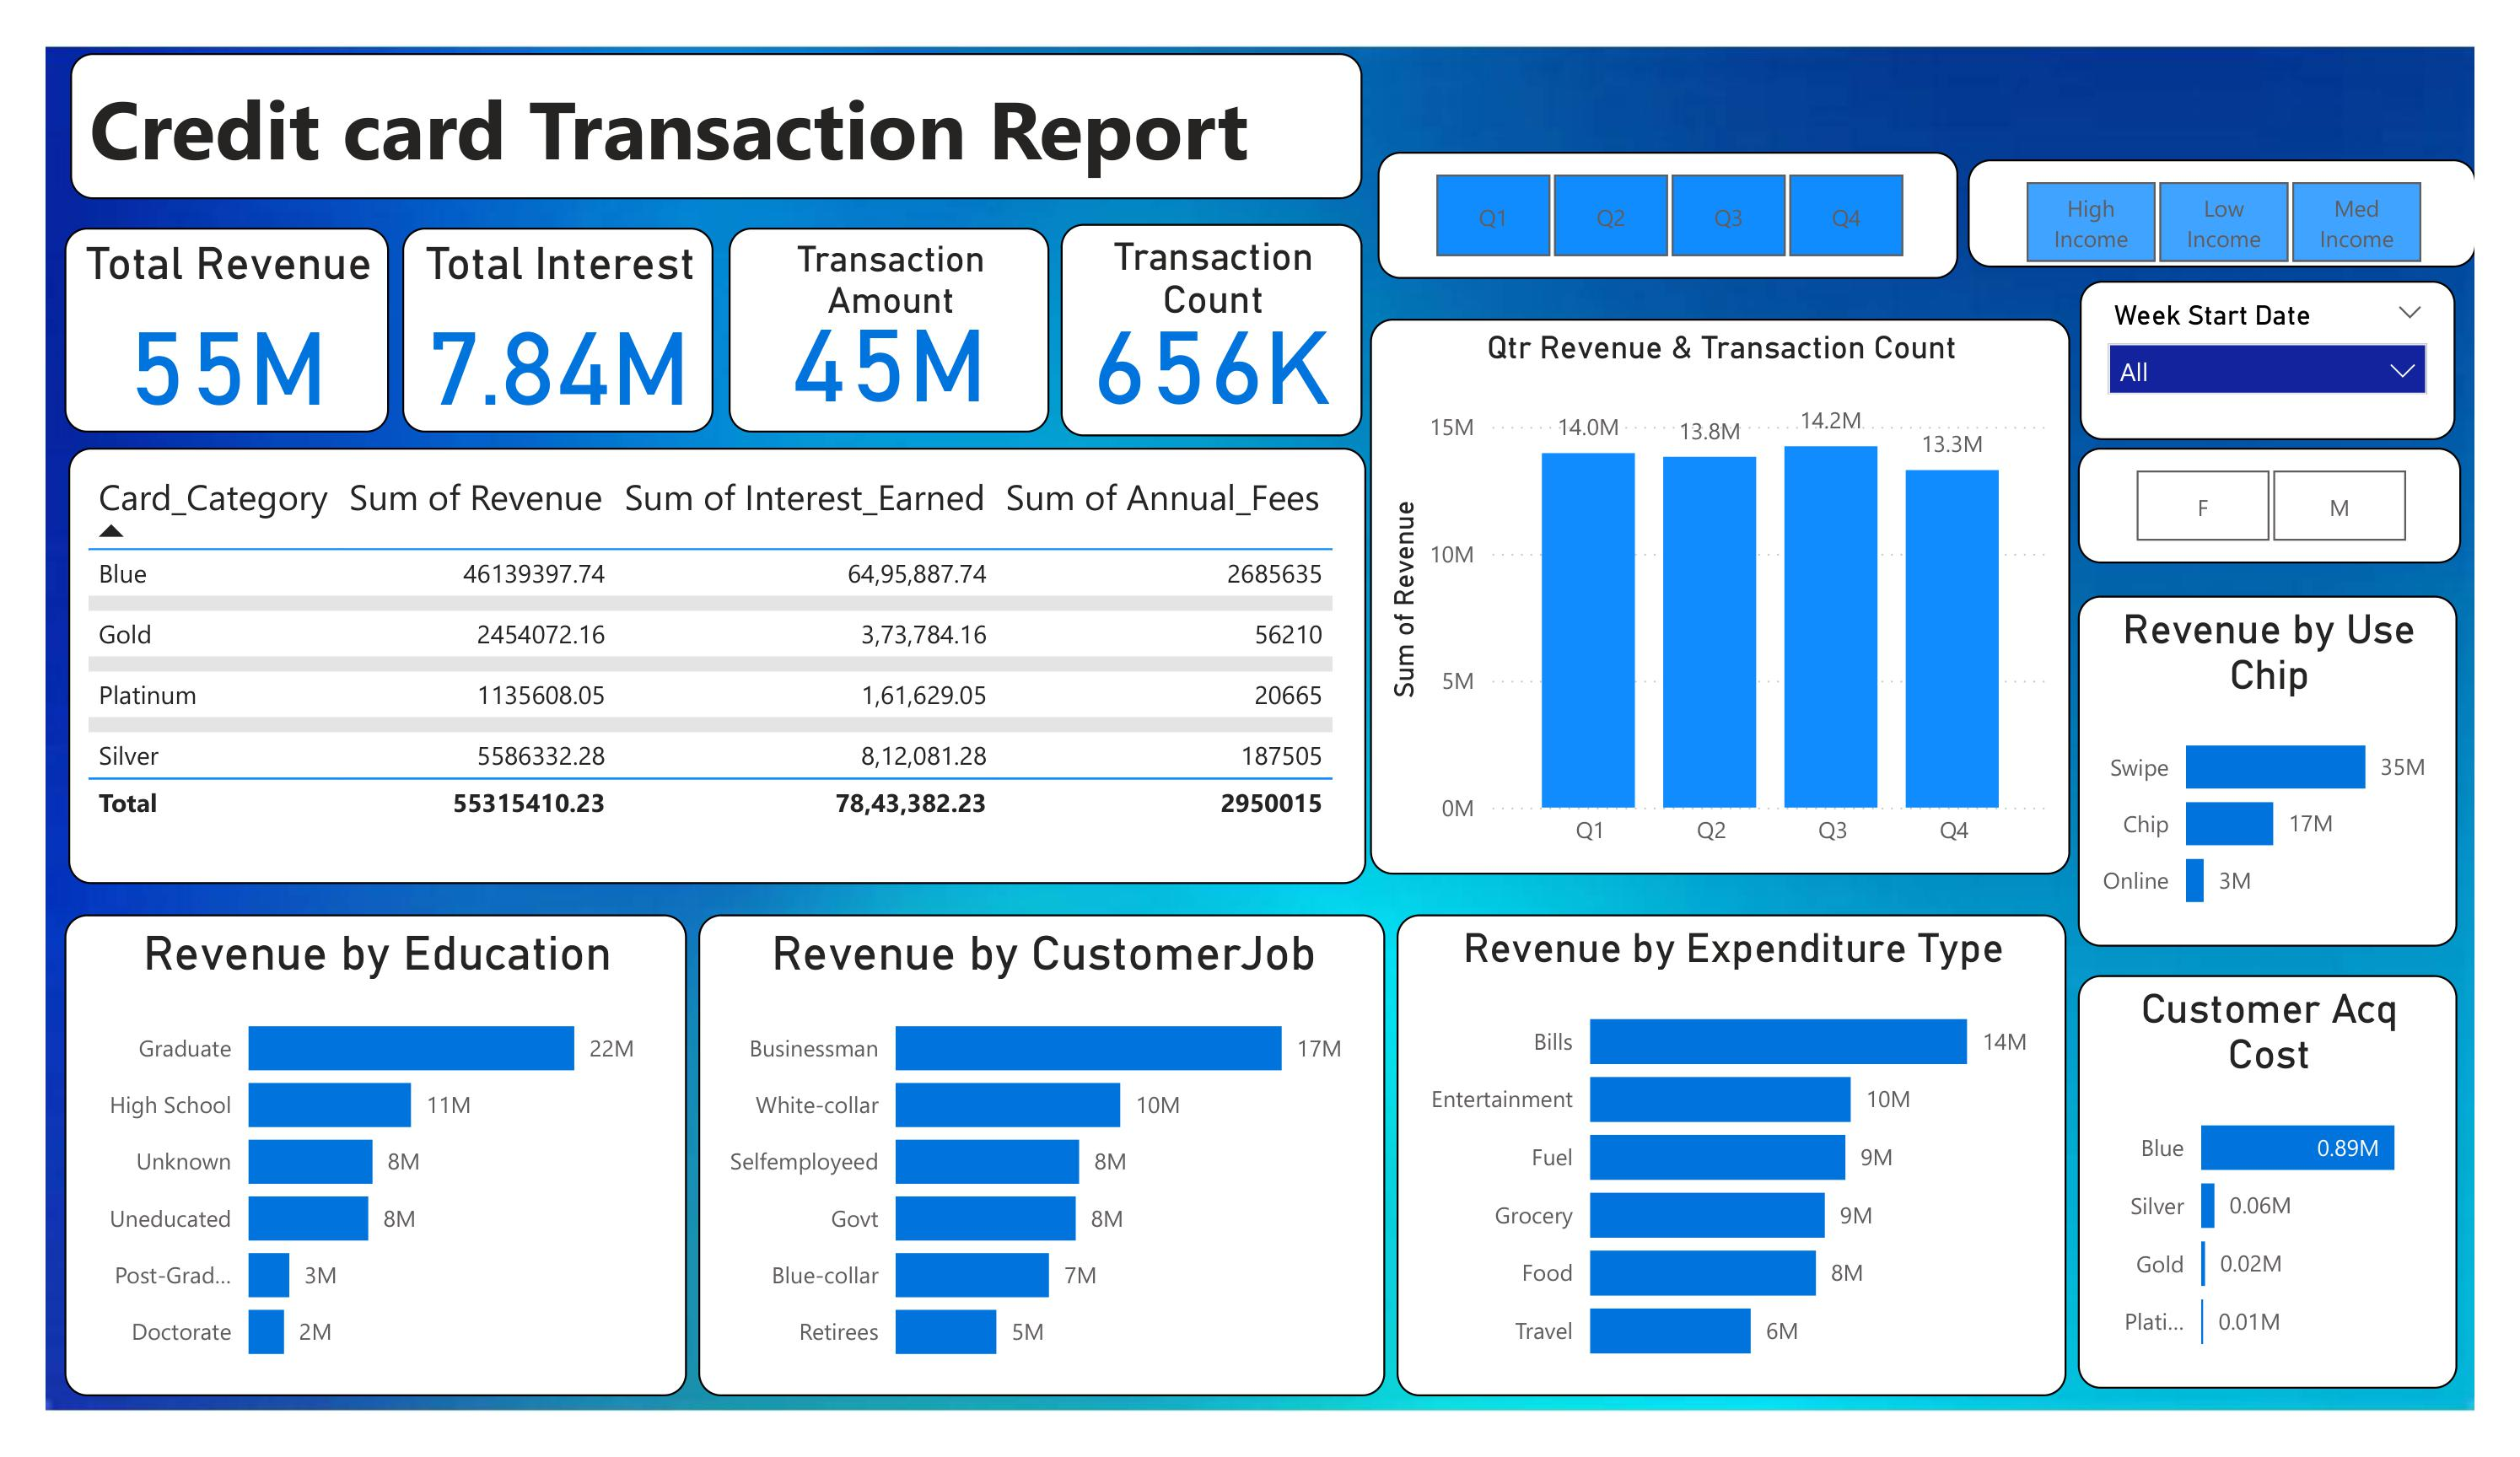

Layout of this report page (visuals, bound fields, positions):
{"tool":"powerbi","page":{"name":"Page 2","canvas":[1280,720],"ordinal":1},"visuals":[{"type":"textbox","box":[13.5,3.8,680.8,76.9],"z":0},{"type":"card","title":"Total Revenue","fields":{"Values":["Sum(Credit Card.Revenue)"]},"box":[9.6,96.2,171.2,107.7],"z":1000},{"type":"card","title":"Total Interest","fields":{"Values":["Sum(Credit Card.Interest_Earned)"]},"box":[188.5,96.2,163.5,107.7],"z":2000},{"type":"card","title":" Transaction  Amount","fields":{"Values":["Sum(Credit Card.Total_Trans_Amt)"]},"box":[359.6,96.2,169.2,107.7],"z":3000},{"type":"card","title":"Transaction  Count","fields":{"Values":["Sum(Credit Card.Total_Trans_Vol)"]},"box":[534.6,94.2,159.6,111.5],"z":4000},{"type":"tableEx","fields":{"Values":["Credit Card.Card_Category","Sum(Credit Card.Revenue)","Sum(Credit Card.Interest_Earned)","Sum(Credit Card.Annual_Fees)"]},"box":[11.5,211.5,684.6,230.8],"z":5000},{"type":"barChart","title":"Revenue by Education","fields":{"Y":["Sum(Credit Card.Revenue)"],"Category":["Customer.Education_Level"]},"box":[9.6,457.7,328.8,253.8],"z":6000},{"type":"barChart","title":"Revenue by CustomerJob","fields":{"Y":["Sum(Credit Card.Revenue)"],"Category":["Customer.Customer_Job"]},"box":[344.2,457.7,361.5,253.8],"z":7000},{"type":"barChart","title":"Revenue by Expenditure Type","fields":{"Y":["Sum(Credit Card.Revenue)"],"Category":["Credit Card.Exp Type"]},"box":[735,466.7,353.3,253.3],"z":8000},{"type":"barChart","title":" Customer Acq Cost","fields":{"Y":["Sum(Credit Card.Customer_Acq_Cost)"],"Category":["Credit Card.Card_Category"]},"box":[1071.2,490.4,200,217.3],"z":9000},{"type":"barChart","title":" Revenue by Use Chip","fields":{"Y":["Sum(Credit Card.Revenue)"],"Category":["Credit Card.Use Chip"]},"box":[1071.2,290.4,200,184.6],"z":10000},{"type":"columnChart","title":" Qtr Revenue & Transaction Count","fields":{"Y":["Sum(Credit Card.Revenue)"],"Category":["Credit Card.Qtr"]},"box":[698.1,144.2,369.2,292.3],"z":11000},{"type":"slicer","fields":{"Values":["Credit Card.Qtr"]},"box":[701.9,55.8,305.8,67.3],"z":12000},{"type":"slicer","fields":{"Values":["Credit Card.Week_Start_Date"]},"box":[1071.2,126.9,201.9,78.8],"z":13000},{"type":"slicer","fields":{"Values":["Customer.Gender"]},"box":[1071.2,211.5,201.9,61.5],"z":14000},{"type":"slicer","fields":{"Values":["Customer.Salary Group"]},"box":[1012.7,59.6,267.3,57.7],"z":15000}]}

Visuals, with their boxes in screenshot pixels (x1, y1, x2, y2), scaled from the page's 1280x720 canvas onto the 2520x1457 screenshot:
textbox: <bbox>27, 8, 1367, 164</bbox>
"Total Revenue" card: <bbox>19, 195, 356, 412</bbox>
"Total Interest" card: <bbox>371, 195, 693, 412</bbox>
" Transaction  Amount" card: <bbox>708, 195, 1041, 412</bbox>
"Transaction  Count" card: <bbox>1053, 191, 1367, 417</bbox>
tableEx - Credit Card.Card_Category x Sum(Credit Card.Revenue): <bbox>23, 428, 1370, 895</bbox>
"Revenue by Education" barChart: <bbox>19, 926, 666, 1440</bbox>
"Revenue by CustomerJob" barChart: <bbox>677, 926, 1389, 1440</bbox>
"Revenue by Expenditure Type" barChart: <bbox>1447, 944, 2143, 1456</bbox>
" Customer Acq Cost" barChart: <bbox>2109, 992, 2502, 1432</bbox>
" Revenue by Use Chip" barChart: <bbox>2109, 588, 2502, 961</bbox>
" Qtr Revenue & Transaction Count" columnChart: <bbox>1375, 292, 2101, 884</bbox>
slicer - Credit Card.Qtr: <bbox>1381, 113, 1984, 249</bbox>
slicer - Credit Card.Week_Start_Date: <bbox>2109, 257, 2507, 417</bbox>
slicer - Customer.Gender: <bbox>2109, 428, 2507, 552</bbox>
slicer - Customer.Salary Group: <bbox>1994, 121, 2519, 238</bbox>
